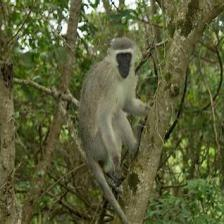monkey: (80, 36, 156, 177)
